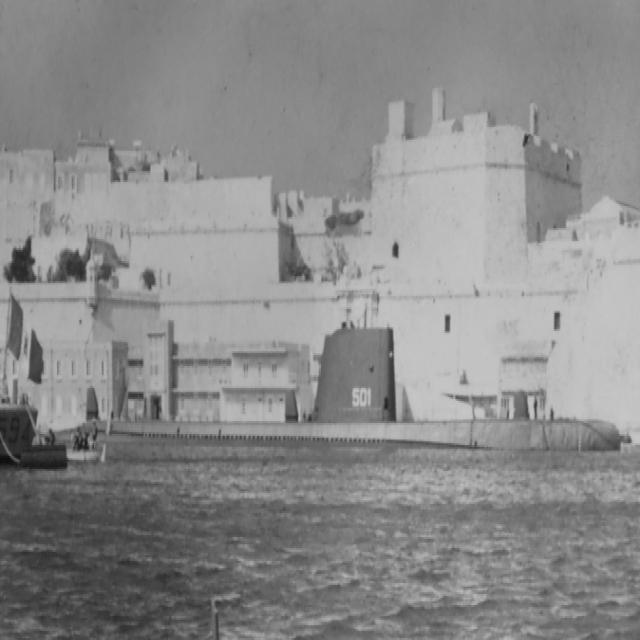submarine: (49, 327, 623, 452)
